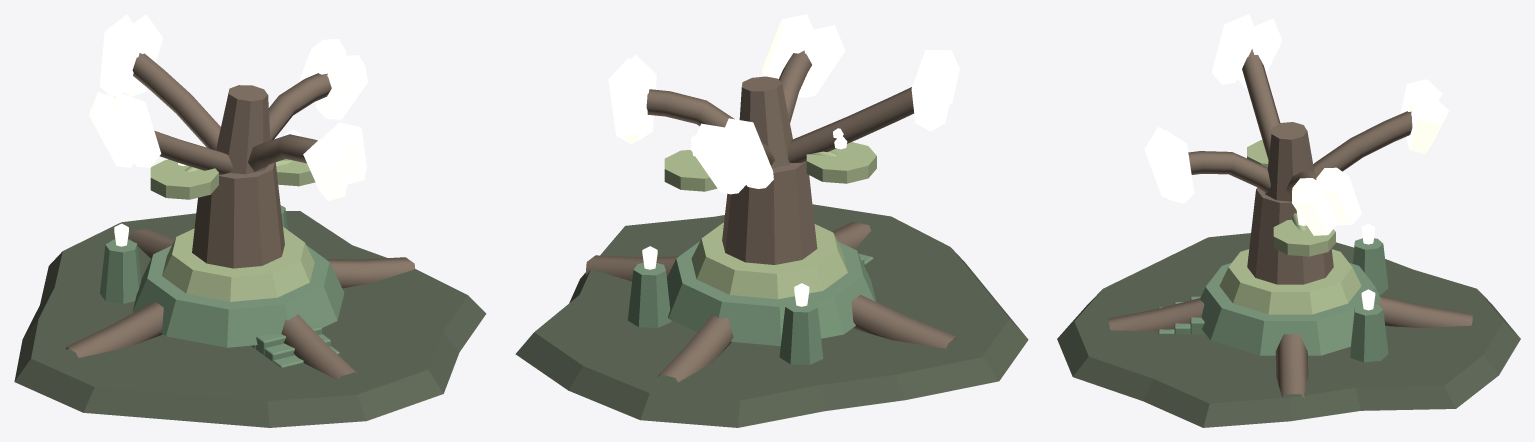
File: emerald-wilds-lod2.glb
3 renders of one model, left to right at view 1: azimuth 30°, elevation 25°; view 2: azimuth 150°, elevation 25°; view 3: azimuth 270°, elevation 25°, orthographic. The views are drawn at different scales.
Parts seen in each view (by area): view 1: STONE_TERRAIN_SOCKET, STONE_TEMPLE_TERRACE_LOWER, ORGANIC_TRUNK_LOWER, TRIM_TEMPLE_TERRACE_UPPER, ORGANIC_TRUNK_UPPER, FX_FOLIAGE_BRANCH_1, ORGANIC_BUTTRESS_ROOT_2, FX_FOLIAGE_BLADE_1_1, FX_FOLIAGE_BLADE_2_1, STONE_ROOT_SHRINE_1, ORGANIC_BUTTRESS_ROOT_3, STONE_CANOPY_PLATFORM_1 (+14 smaller); view 2: STONE_TERRAIN_SOCKET, STONE_TEMPLE_TERRACE_LOWER, ORGANIC_TRUNK_LOWER, TRIM_TEMPLE_TERRACE_UPPER, FX_FOLIAGE_BRANCH_2, ORGANIC_TRUNK_UPPER, ORGANIC_BUTTRESS_ROOT_2, FX_FOLIAGE_BLADE_0_1, STONE_ROOT_SHRINE_1, STONE_ROOT_SHRINE_0, FX_FOLIAGE_BLADE_1_1, ORGANIC_BUTTRESS_ROOT_1 (+11 smaller); view 3: STONE_TERRAIN_SOCKET, STONE_TEMPLE_TERRACE_LOWER, TRIM_TEMPLE_TERRACE_UPPER, ORGANIC_TRUNK_LOWER, ORGANIC_TRUNK_UPPER, FX_FOLIAGE_BRANCH_1, FX_FOLIAGE_BLADE_3_1, FX_FOLIAGE_BLADE_2_1, ORGANIC_BUTTRESS_ROOT_1, FX_FOLIAGE_BRANCH_3, ORGANIC_BUTTRESS_ROOT_3, FX_FOLIAGE_BRANCH_2 (+10 smaller).
Boxes of the visible parts, x1,y1,x2,y2 form: STONE_TERRAIN_SOCKET: [14, 211, 486, 427]; STONE_TEMPLE_TERRACE_LOWER: [132, 245, 344, 347]; ORGANIC_TRUNK_LOWER: [192, 162, 284, 268]; TRIM_TEMPLE_TERRACE_UPPER: [162, 227, 314, 301]; ORGANIC_TRUNK_UPPER: [216, 85, 270, 174]; FX_FOLIAGE_BRANCH_1: [132, 53, 220, 150]; ORGANIC_BUTTRESS_ROOT_2: [65, 301, 163, 357]; FX_FOLIAGE_BLADE_1_1: [99, 14, 143, 96]; FX_FOLIAGE_BLADE_2_1: [109, 92, 161, 167]; STONE_ROOT_SHRINE_1: [100, 239, 141, 303]; ORGANIC_BUTTRESS_ROOT_3: [281, 314, 357, 380]; STONE_CANOPY_PLATFORM_1: [150, 159, 218, 199]; STONE_TERRAIN_SOCKET: [515, 204, 1028, 427]; STONE_TEMPLE_TERRACE_LOWER: [667, 241, 876, 346]; ORGANIC_TRUNK_LOWER: [722, 161, 817, 264]; TRIM_TEMPLE_TERRACE_UPPER: [691, 222, 847, 299]; FX_FOLIAGE_BRANCH_2: [788, 87, 914, 162]; ORGANIC_TRUNK_UPPER: [739, 76, 792, 168]; ORGANIC_BUTTRESS_ROOT_2: [851, 295, 956, 348]; FX_FOLIAGE_BLADE_0_1: [608, 58, 649, 144]; STONE_ROOT_SHRINE_1: [779, 300, 823, 364]; STONE_ROOT_SHRINE_0: [627, 263, 671, 327]; FX_FOLIAGE_BLADE_1_1: [722, 118, 773, 188]; ORGANIC_BUTTRESS_ROOT_1: [658, 314, 733, 382]; STONE_TERRAIN_SOCKET: [1057, 233, 1520, 427]; STONE_TEMPLE_TERRACE_LOWER: [1200, 263, 1380, 355]; TRIM_TEMPLE_TERRACE_UPPER: [1219, 249, 1361, 314]; ORGANIC_TRUNK_LOWER: [1247, 187, 1333, 284]; ORGANIC_TRUNK_UPPER: [1265, 122, 1314, 201]; FX_FOLIAGE_BRANCH_1: [1313, 111, 1412, 175]; FX_FOLIAGE_BLADE_3_1: [1151, 129, 1194, 203]; FX_FOLIAGE_BLADE_2_1: [1211, 14, 1257, 84]; ORGANIC_BUTTRESS_ROOT_1: [1378, 295, 1472, 327]; FX_FOLIAGE_BRANCH_3: [1188, 151, 1270, 193]; ORGANIC_BUTTRESS_ROOT_3: [1108, 298, 1204, 331]; FX_FOLIAGE_BRANCH_2: [1242, 49, 1280, 159].
Bounding box in the file's own units: 1.94 × 1.27 × 2.02.
